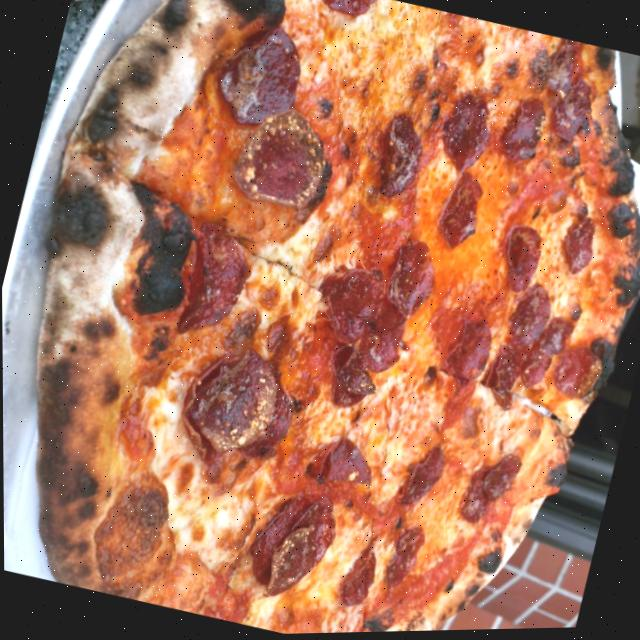pepperoni: (169, 338, 286, 469), (231, 482, 346, 607), (197, 17, 316, 137), (163, 221, 259, 353), (224, 104, 330, 218), (313, 261, 395, 351), (304, 433, 383, 519), (426, 89, 500, 180), (366, 110, 430, 209), (259, 516, 326, 610), (375, 236, 444, 323), (237, 382, 301, 468), (428, 171, 492, 257), (487, 219, 551, 304), (348, 298, 413, 380), (488, 96, 551, 176), (440, 310, 498, 396), (330, 536, 386, 619), (318, 346, 382, 416), (391, 440, 448, 515), (545, 343, 609, 408), (375, 521, 429, 598), (543, 75, 595, 153), (502, 279, 557, 350), (478, 340, 526, 419), (552, 214, 606, 282), (539, 38, 579, 104), (478, 450, 521, 506), (453, 471, 493, 528), (531, 314, 575, 364), (512, 345, 552, 397), (307, 0, 390, 25)
pizza: (0, 0, 640, 640)
